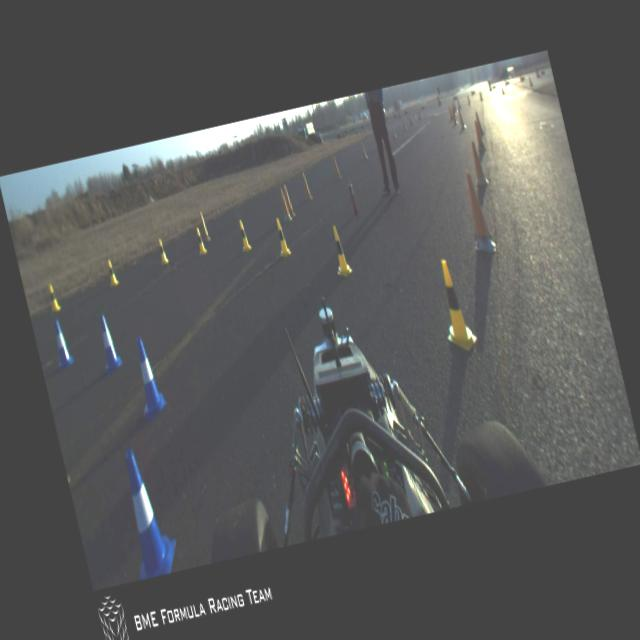blue_cone: (110, 443, 182, 580), (126, 335, 168, 417), (94, 312, 122, 370), (48, 318, 75, 368)
unknown_cone: (458, 169, 496, 254), (466, 140, 488, 186), (277, 186, 292, 220), (472, 120, 486, 152), (282, 186, 296, 217), (298, 170, 312, 200), (330, 154, 342, 178), (474, 110, 484, 135), (456, 106, 466, 128), (359, 142, 368, 160)
yellow_cone: (430, 257, 479, 354), (327, 224, 353, 278), (272, 216, 291, 256), (236, 218, 252, 251), (46, 282, 60, 312), (105, 258, 118, 286), (194, 227, 206, 254), (156, 238, 168, 264)
